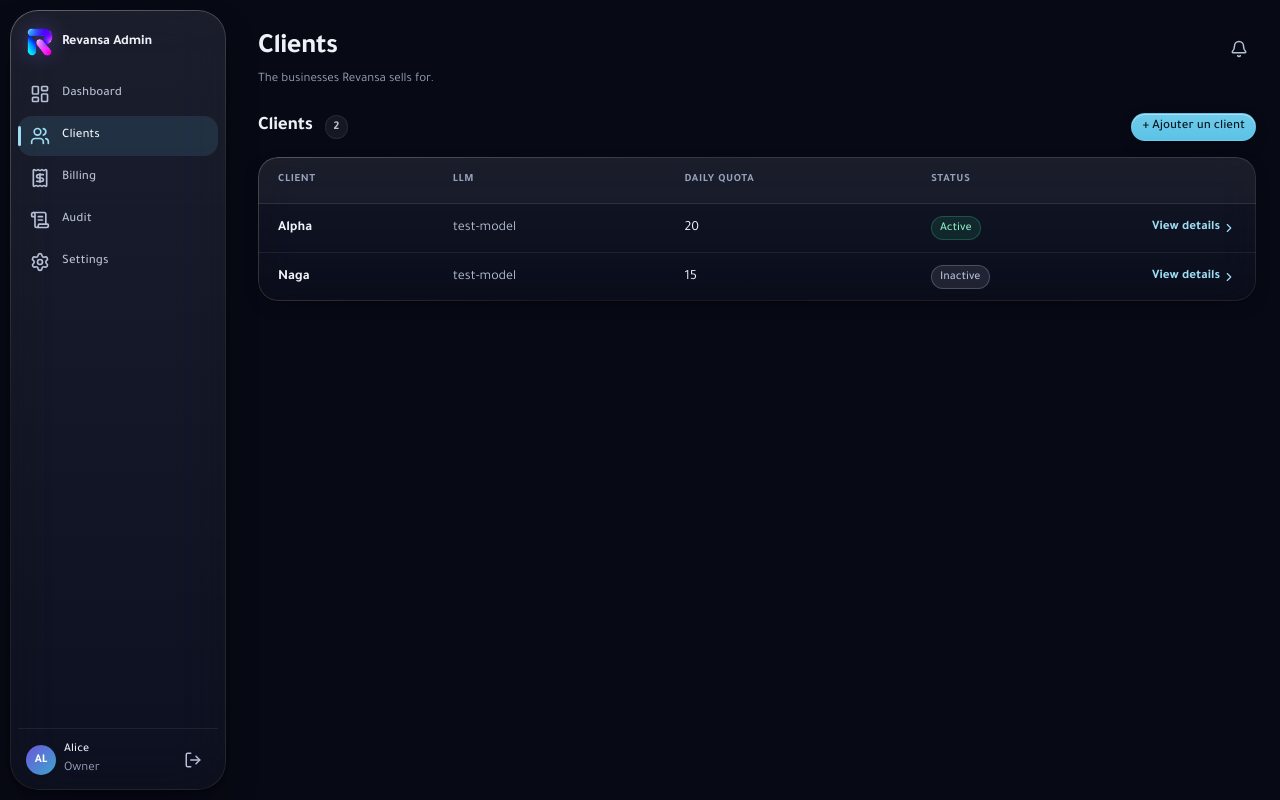
AdminClientsPage › opens an add-client form with the requested fields, WhatsApp number included, and no Meta credential
Expected: the column heading "Alpha" is shown, [258,203,433,252]
Click the button "+ Ajouter un client": (1194, 127) [1131,113,1256,141]
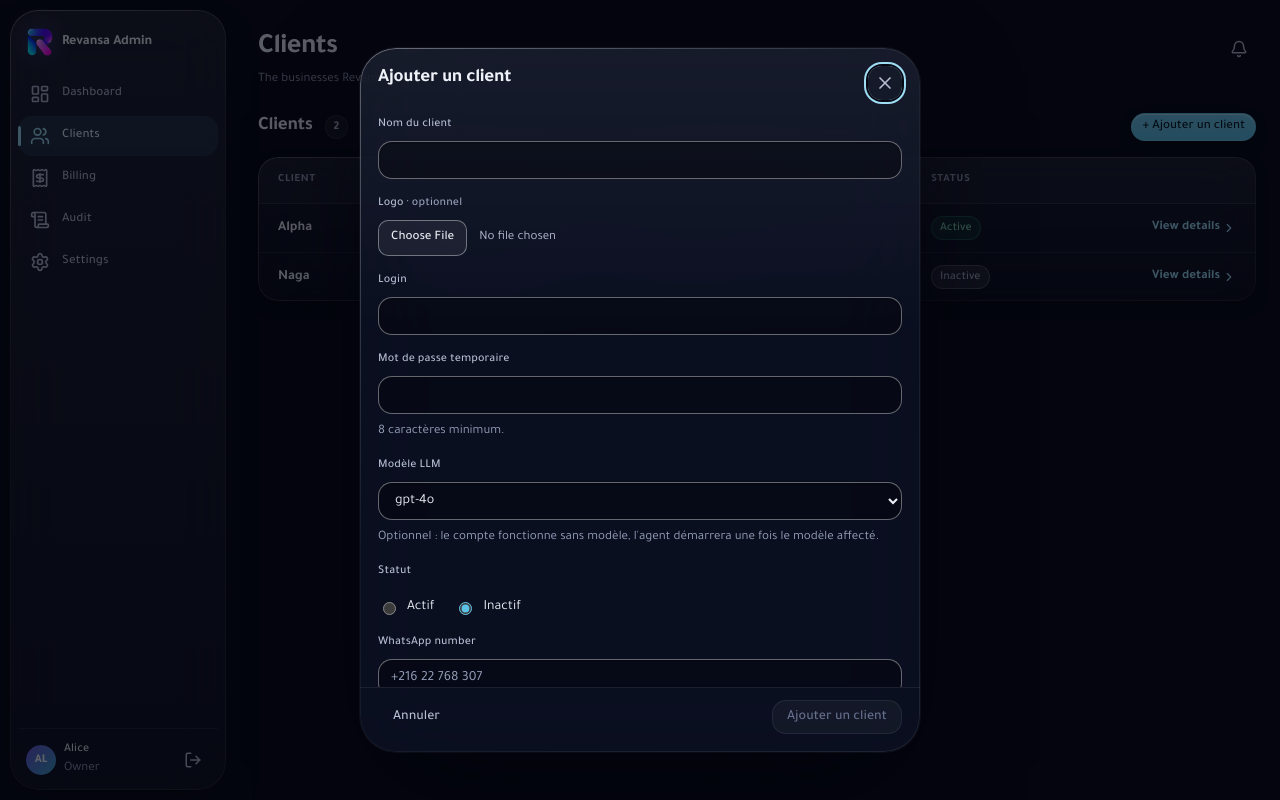
Now the field labelled "Nom du client" is shown, box [378,141,902,179]
Now the file field labelled "Logo · optionnel" is shown, box [378,220,902,256]
Now the field labelled "Login" is shown, box [378,297,902,335]
